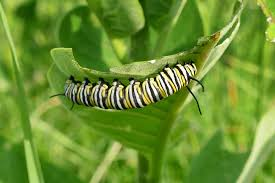Caterpillar: (57, 62, 203, 116)
